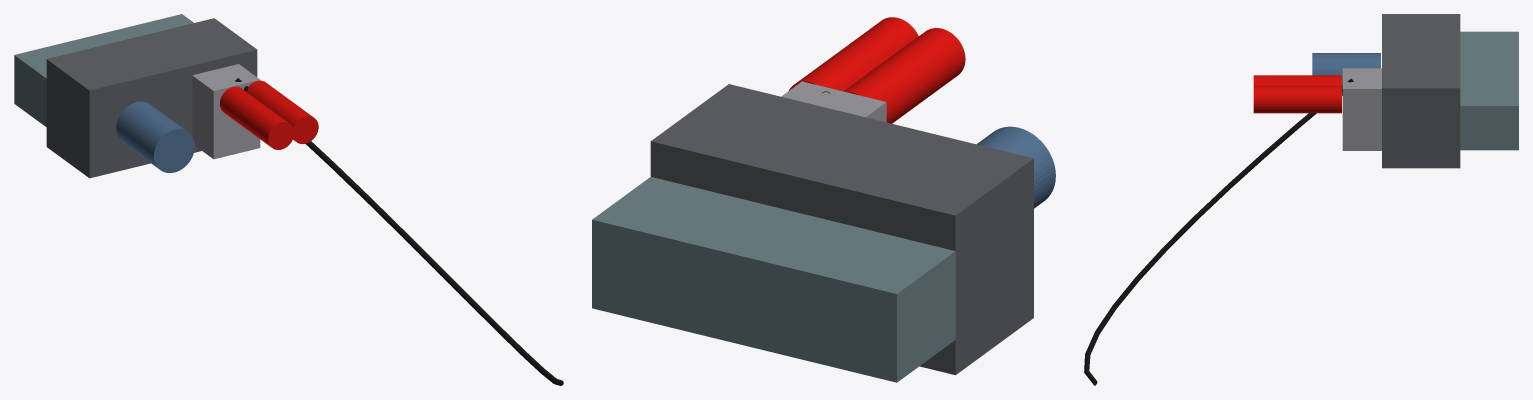
The model's file is hydraulic_unit.glb.
The picture shows the model from 3 angles, left to right: view 1: azimuth 30°, elevation 25°; view 2: azimuth 150°, elevation 25°; view 3: azimuth 270°, elevation 25°; orthographic projection. The views are drawn at different scales.
Parts seen in each view (by area): view 1: hydraulic_unit; view 2: hydraulic_unit; view 3: hydraulic_unit.
Boxes of the visible parts, box(x1,y1,x2,y2) form: hydraulic_unit: box(14, 14, 563, 385); hydraulic_unit: box(592, 17, 1055, 382); hydraulic_unit: box(1084, 14, 1518, 385).
Size of the model in its own units: 1.69 by 1.31 by 2.22.
